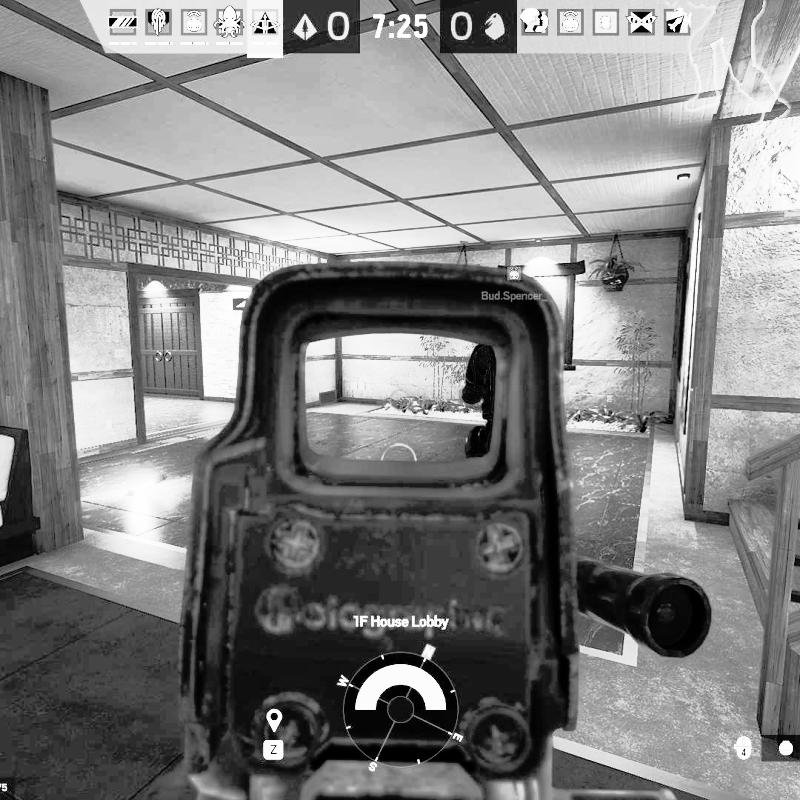Friend_label: (481, 264, 545, 303)
